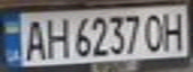2: (90, 12, 112, 57)
3: (106, 12, 127, 56)
6: (72, 14, 93, 58)
7: (124, 11, 145, 54)
A: (18, 16, 48, 61)
H: (42, 15, 72, 60), (160, 8, 190, 52)
O: (142, 10, 169, 53)
